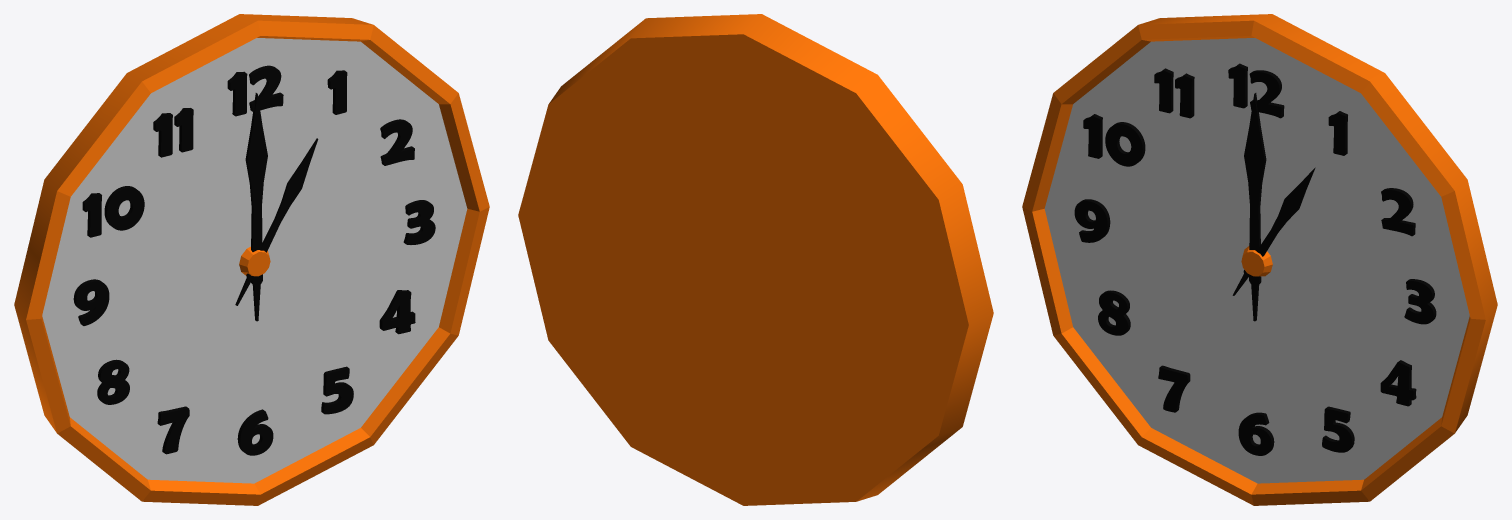
The model's file is clock.fbx.
3 views of the same model, side by side, from view 1: azimuth 30°, elevation 25°; view 2: azimuth 150°, elevation 25°; view 3: azimuth 330°, elevation 25° (orthographic).
Parts seen in each view (by area): view 1: clock, clock02, clock01; view 2: clock; view 3: clock, clock02, clock01.
Boxes of the visible parts, box(x1,y1,x2,y2) form: clock: box(14, 14, 489, 505); clock02: box(245, 93, 267, 321); clock01: box(235, 138, 318, 305); clock: box(518, 14, 993, 505); clock: box(1022, 14, 1497, 505); clock02: box(1244, 93, 1266, 321); clock01: box(1232, 167, 1315, 295).
Size of the model in its own units: 192 by 192 by 15.1.
